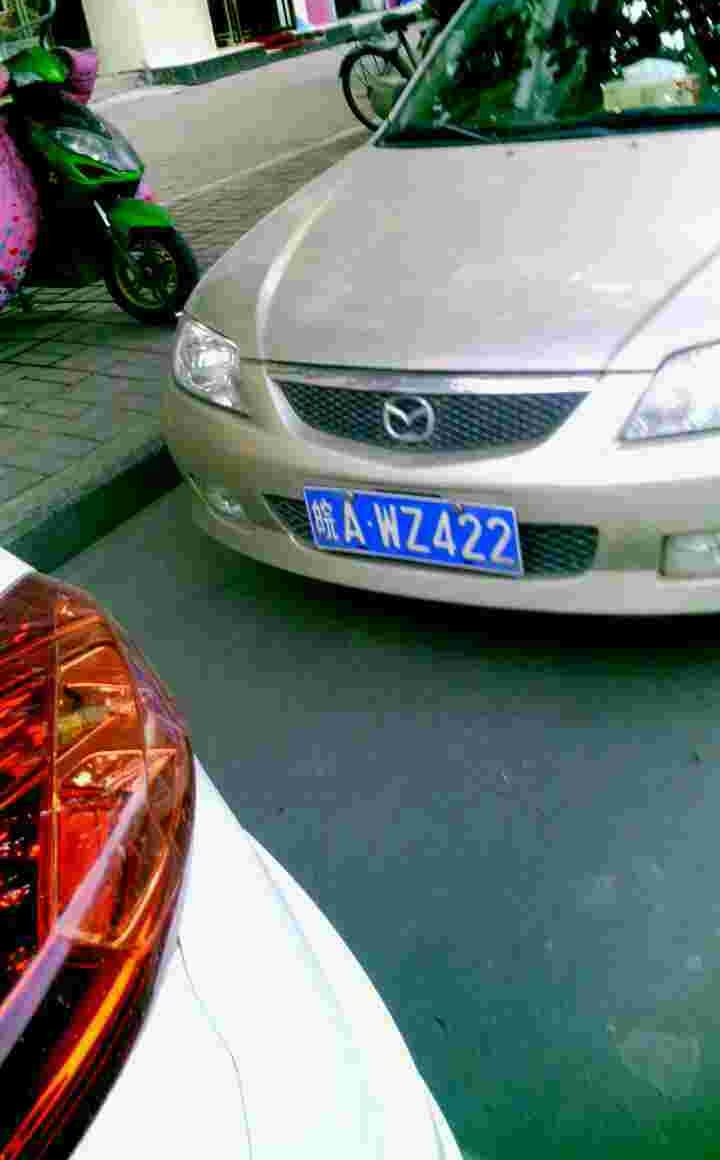license_plate: (309, 485, 532, 581)
